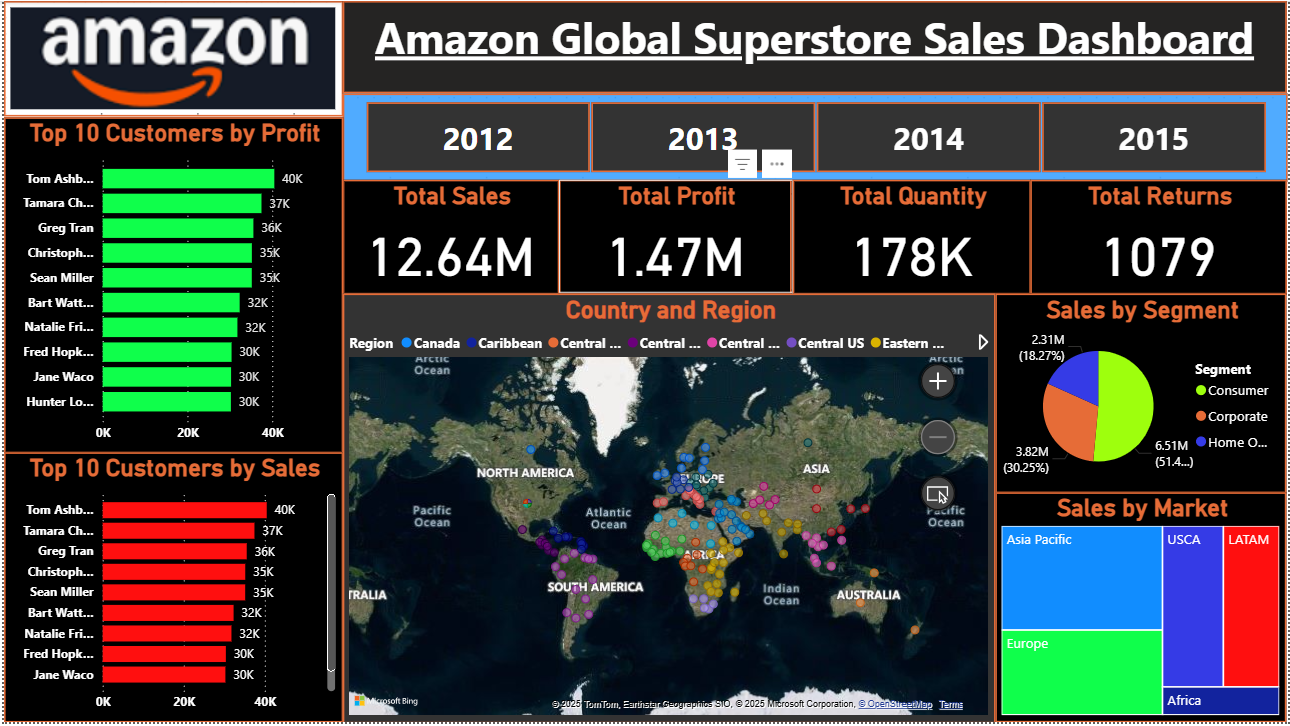

The dashboard page shown, as its layout file describes it:
{"tool":"powerbi","page":{"name":"Dashboard 2","canvas":[1280,720],"ordinal":1},"visuals":[{"type":"slicer","fields":{"Values":["Orders.Year"]},"box":[338,91.8,942,88],"z":0},{"type":"image","box":[0,0,338.1,115.5],"z":1000},{"type":"textbox","box":[338.1,0,941.9,91.8],"z":2000},{"type":"card","title":"Total Sales","fields":{"Values":["Orders.Sales"]},"box":[338.1,178.1,215.7,114.1],"z":3000},{"type":"card","title":"Total Profit","fields":{"Values":["Orders.Profit"]},"box":[553.7,178.1,232.3,114.1],"z":4000},{"type":"card","title":"Total Quantity","fields":{"Values":["Orders.Quantity"]},"box":[786.1,178.1,237.9,114.1],"z":5000},{"type":"card","title":"Total Returns","fields":{"Values":["Returns.Return"]},"box":[1024,178.1,256,114.1],"z":6000},{"type":"pieChart","title":"Sales by Segment","fields":{"Y":["Orders.Sales"],"Category":["Orders.Segment"]},"box":[989.2,292.2,290.8,199],"z":7000},{"type":"treemap","title":"Sales by Market","fields":{"Group":["Orders.Market"],"Values":["Orders.Sales"]},"box":[989.2,490.4,290.8,229.6],"z":8000},{"type":"barChart","title":"Top 10 Customers by Profit","fields":{"Category":["Orders.Customer Name"],"Y":["Orders.Sales"]},"box":[0,115.5,338.1,335.3],"z":9000},{"type":"clusteredBarChart","title":"Top 10 Customers by Sales","fields":{"Category":["Orders.Customer Name"],"Y":["Orders.Sales"]},"box":[0,450.1,338.1,269.9],"z":10000},{"type":"map","fields":{"Category":["Orders.Country"],"Series":["Orders.Region"]},"box":[338.1,291.5,651.1,428.5],"z":11000}]}

Visuals, with their boxes in screenshot pixels (x1, y1, x2, y2), scaled from the page's 1280x720 canvas onto the 1290x726 screenshot:
slicer - Orders.Year: [341, 93, 1289, 181]
image: [0, 0, 341, 116]
textbox: [341, 0, 1289, 93]
"Total Sales" card: [341, 180, 558, 295]
"Total Profit" card: [558, 180, 792, 295]
"Total Quantity" card: [792, 180, 1032, 295]
"Total Returns" card: [1032, 180, 1289, 295]
"Sales by Segment" pieChart: [997, 295, 1289, 495]
"Sales by Market" treemap: [997, 494, 1289, 725]
"Top 10 Customers by Profit" barChart: [0, 116, 341, 455]
"Top 10 Customers by Sales" clusteredBarChart: [0, 454, 341, 725]
map - Orders.Country x Orders.Region: [341, 294, 997, 725]
